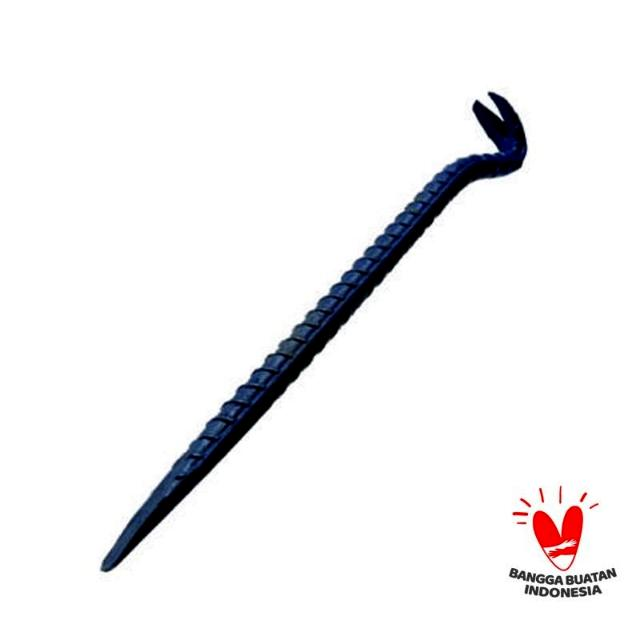crow bar: (96, 85, 535, 580)
